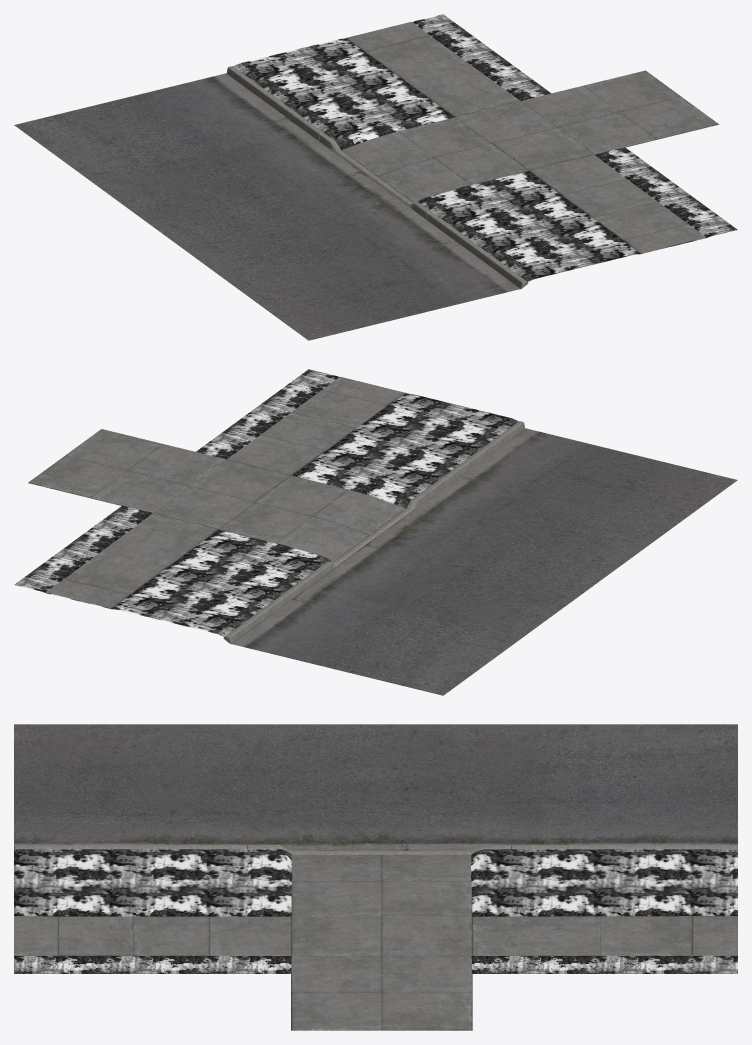
Rendered from SM_Road_Driveway_02_Right.fbx.
The picture shows the model from 3 angles, top to bottom: view 1: azimuth 30°, elevation 25°; view 2: azimuth 150°, elevation 25°; view 3: azimuth 270°, elevation 25°; orthographic projection. The views are drawn at different scales.
Visible parts, largest first — view 1: SM_Road_Driveway_02_Right; view 2: SM_Road_Driveway_02_Right; view 3: SM_Road_Driveway_02_Right.
Part boxes in pixels (box(x1,y1,x2,y2)): SM_Road_Driveway_02_Right: box(14, 14, 737, 340); SM_Road_Driveway_02_Right: box(14, 369, 737, 695); SM_Road_Driveway_02_Right: box(14, 724, 737, 1030).
Bounding box in the file's own units: 954 × 930 × 13.5.
4 materials, 4 textured.
